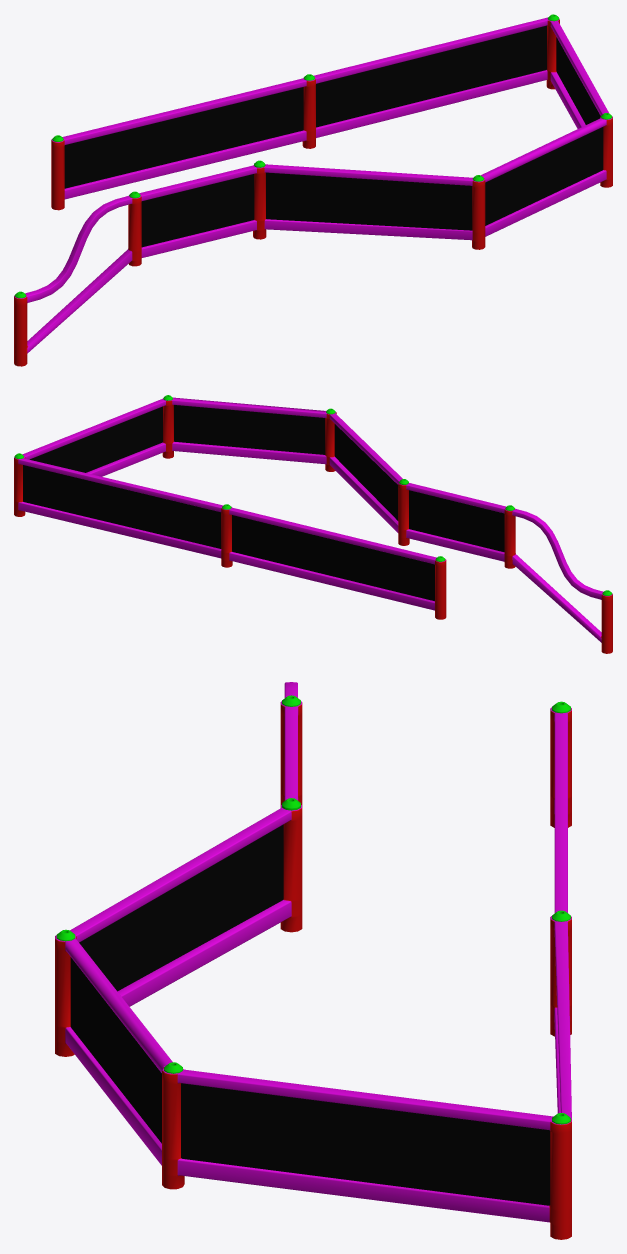
File: Platform_Railings.fbx
The picture shows the model from 3 angles, top to bottom: view 1: azimuth 30°, elevation 25°; view 2: azimuth 150°, elevation 25°; view 3: azimuth 270°, elevation 25°; orthographic projection. The views are drawn at different scales.
Visible parts, largest first — view 1: Platform_Railings; view 2: Platform_Railings; view 3: Platform_Railings.
Boxes of the visible parts, bbox=[...] form: Platform_Railings: bbox=[14, 14, 612, 366]; Platform_Railings: bbox=[14, 395, 612, 653]; Platform_Railings: bbox=[55, 682, 571, 1239].
Size of the model in its own units: 1479 by 326 by 625.
